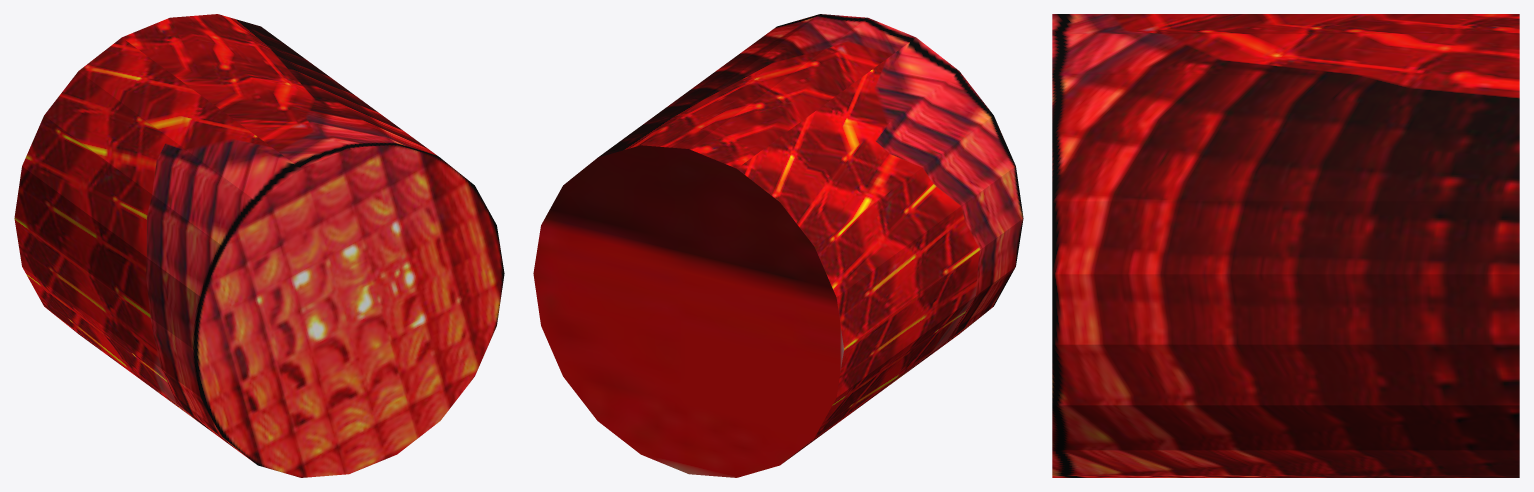
File: light.dae
3 views of the same model, side by side, from view 1: azimuth 30°, elevation 25°; view 2: azimuth 150°, elevation 25°; view 3: azimuth 270°, elevation 25° (orthographic). The views are drawn at different scales.
Visible parts, largest first — view 1: Cylinder20-0; view 2: Cylinder20-0; view 3: Cylinder20-0.
Part boxes in pixels (box(x1,y1,x2,y2)): Cylinder20-0: box(14, 14, 504, 477); Cylinder20-0: box(533, 14, 1023, 477); Cylinder20-0: box(1052, 14, 1519, 477).
Bounding box in the file's own units: 0.1 × 0.1 × 0.1.
